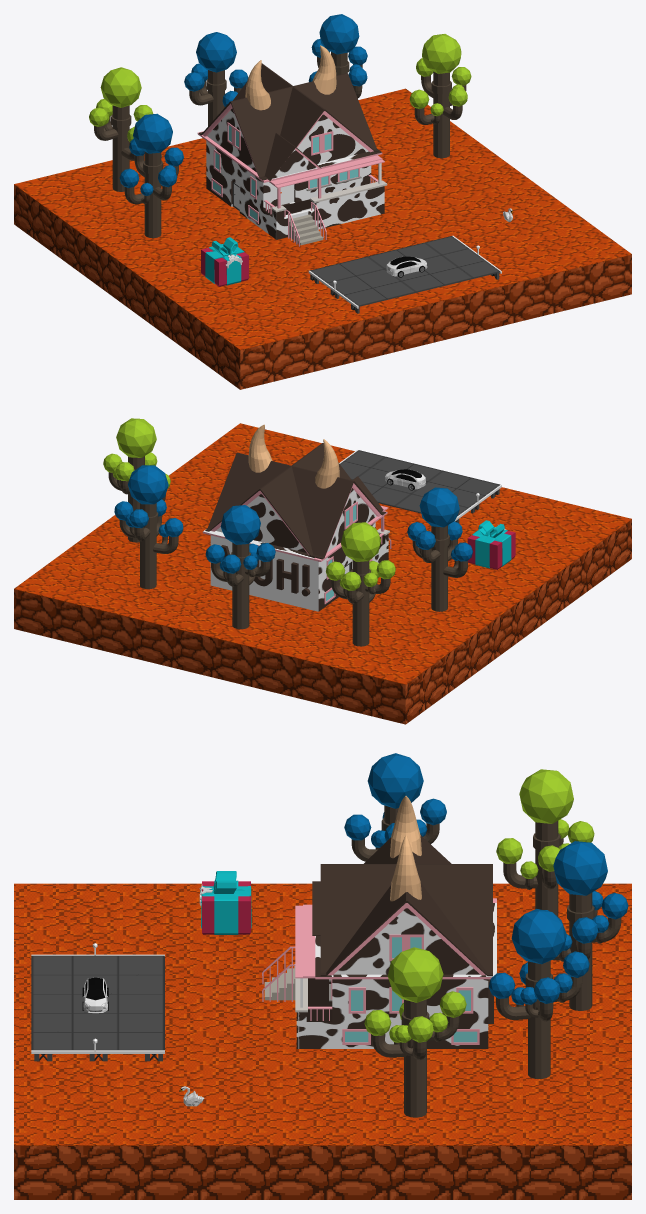
3 renders of one model, top to bottom at view 1: azimuth 30°, elevation 25°; view 2: azimuth 150°, elevation 25°; view 3: azimuth 270°, elevation 25°, orthographic. The views are drawn at different scales.
Parts seen in each view (by area): view 1: Cube.001, Cube.1242, OBJRANDOM_GIANT_PRESENT, VEHICLES_TESLA; view 2: Cube.001, Cube.1242, OBJRANDOM_GIANT_PRESENT, VEHICLES_TESLA; view 3: Cube.001, Cube.1242, OBJRANDOM_GIANT_PRESENT, VEHICLES_TESLA.
Part boxes in pixels (<box>): Cube.001: <box>14,14,631,389</box>; Cube.1242: <box>197,45,387,246</box>; OBJRANDOM_GIANT_PRESENT: <box>201,237,248,286</box>; VEHICLES_TESLA: <box>386,256,427,277</box>; Cube.001: <box>14,418,631,724</box>; Cube.1242: <box>202,424,391,611</box>; OBJRANDOM_GIANT_PRESENT: <box>467,520,515,569</box>; VEHICLES_TESLA: <box>385,469,425,490</box>; Cube.001: <box>14,753,631,1199</box>; Cube.1242: <box>262,796,496,1048</box>; OBJRANDOM_GIANT_PRESENT: <box>199,871,251,934</box>; VEHICLES_TESLA: <box>82,977,108,1013</box>.
Bounding box in the file's own units: 4000 × 1882 × 4000.
35 materials, 4 textured.
